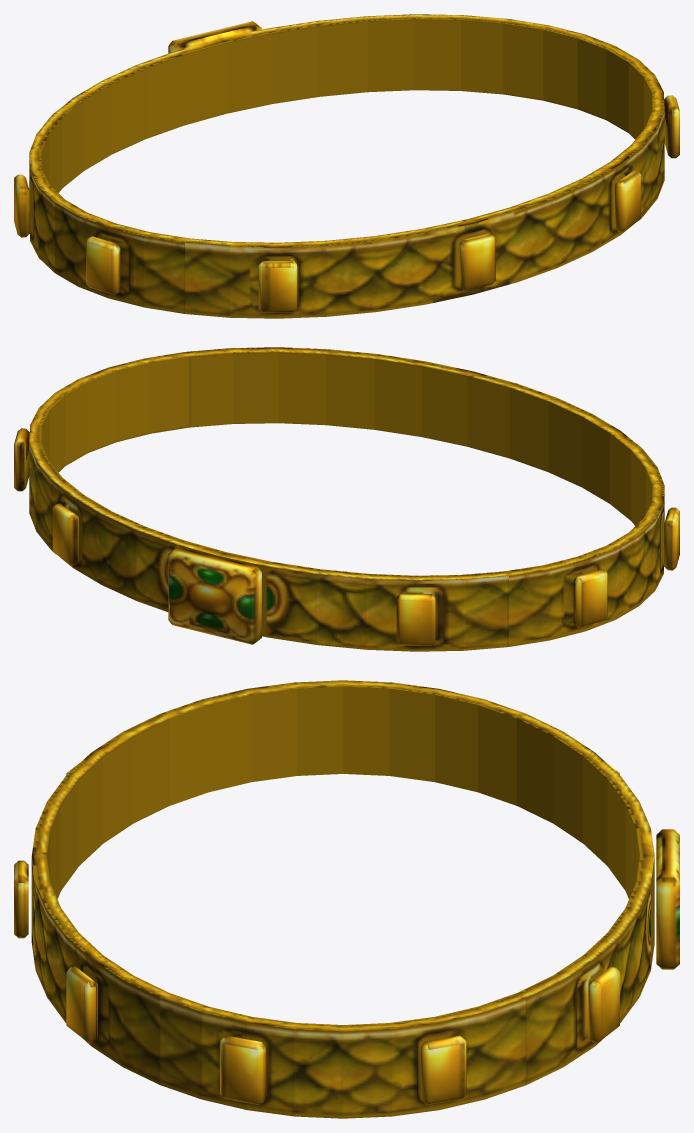
File: item_mm9_10154.glb
3 views of the same model, one above another, from view 1: azimuth 30°, elevation 25°; view 2: azimuth 150°, elevation 25°; view 3: azimuth 270°, elevation 25° (orthographic). The views are drawn at different scales.
Parts seen in each view (by area): view 1: d10154; view 2: d10154; view 3: d10154.
Boxes of the visible parts, left/top/right/bottom form: d10154: left=14, top=14, right=679, bottom=318; d10154: left=14, top=347, right=679, bottom=651; d10154: left=14, top=680, right=679, bottom=1118.
Bounding box in the file's own units: 61.2 × 7.39 × 48.64.
Materials: 1 (1 with a texture image).
